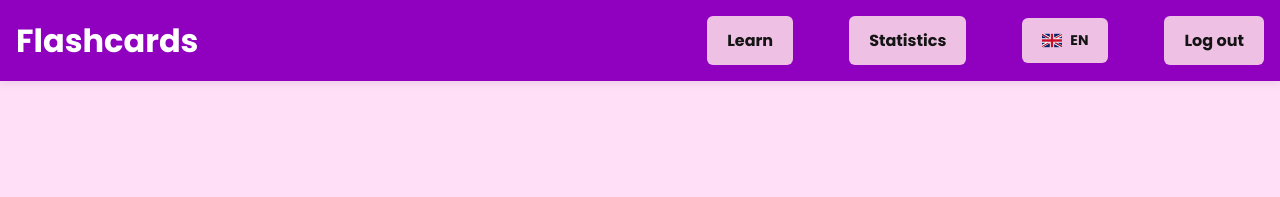
Navbar component › Closes dropdown when language is changed
Note: Show dropdown
Hover over the button "EN".
mouse_move(1065, 40)  # box [1022,18,1108,63]
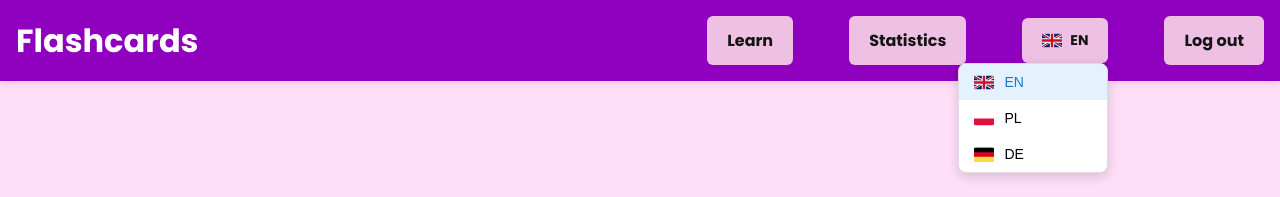
Result: the text "PL" is shown at [1004,110,1022,126]
Note: Click on a language option
Click the button "DE".
click(1033, 154)  # box [959,136,1107,172]
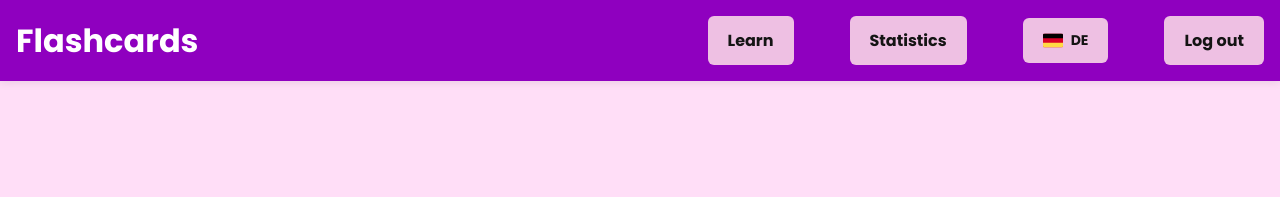
Result: the button "PL" is gone
